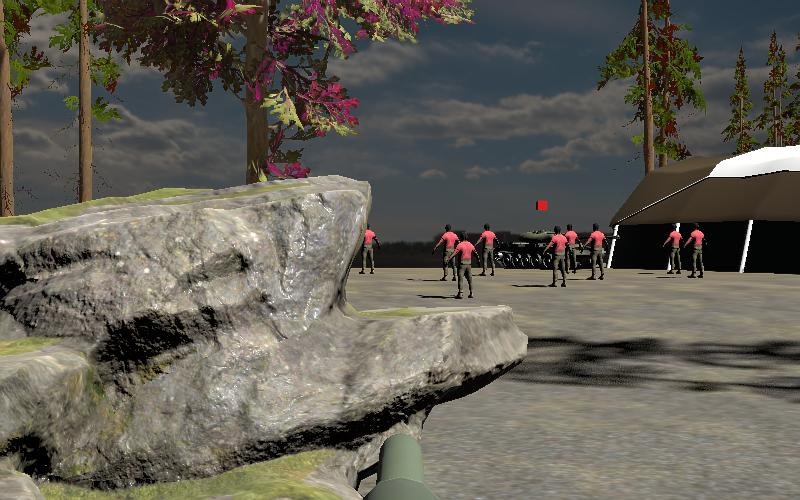Human: (448, 230, 483, 299), (543, 223, 574, 288), (432, 222, 462, 282), (682, 221, 712, 279), (583, 222, 610, 280), (474, 222, 501, 278), (661, 222, 685, 276), (359, 221, 381, 276), (563, 221, 583, 275)
Tank: (497, 224, 621, 271)
